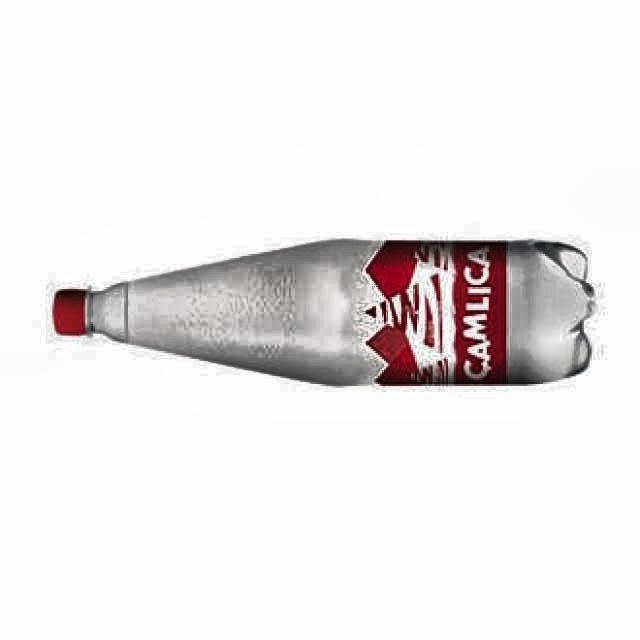plastic: (55, 240, 592, 384)
